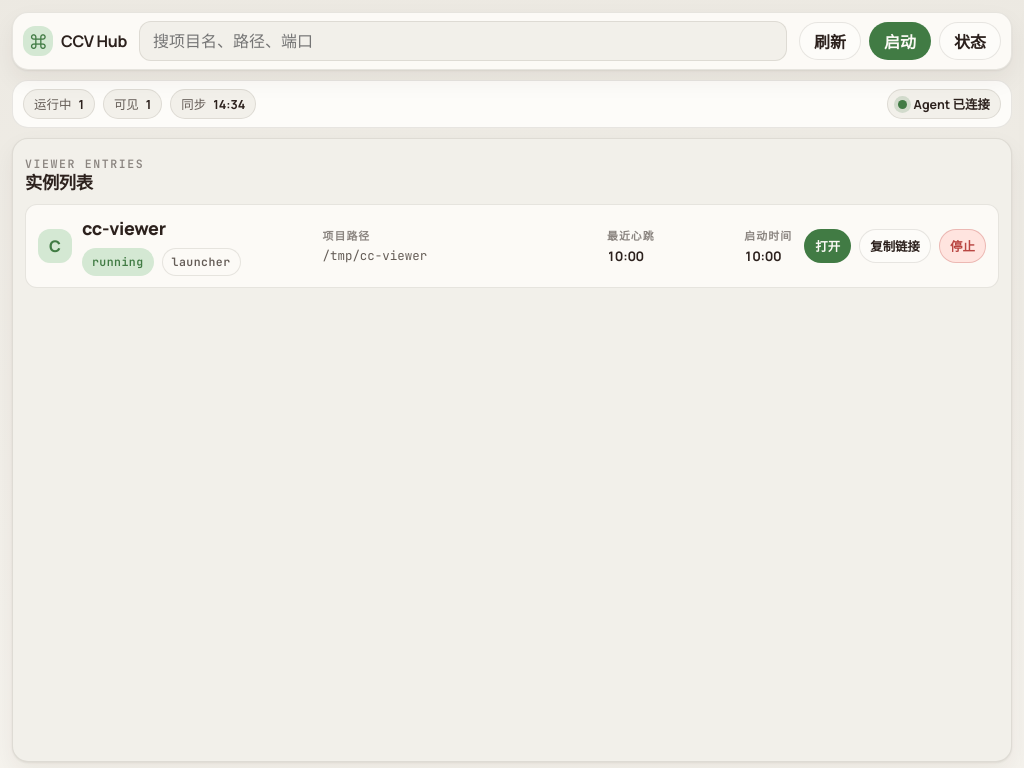
OverviewPage › stops an instance from the card action
Step 1. Click the button "停止" → [962, 246], box [939,229,986,263]
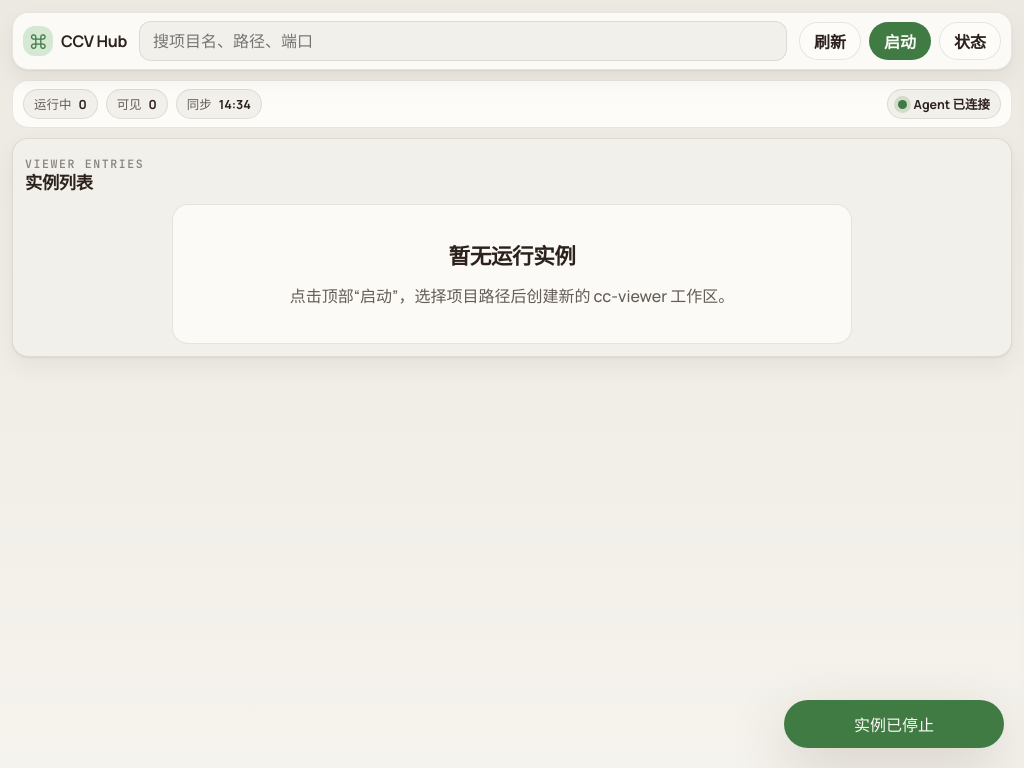
Check: the text "实例已停止" is shown, box [784,700,1004,748]
